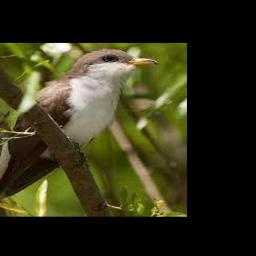Cuckoo: (0, 48, 159, 215)
